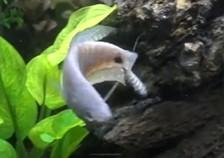Gourami: (62, 25, 147, 130)
